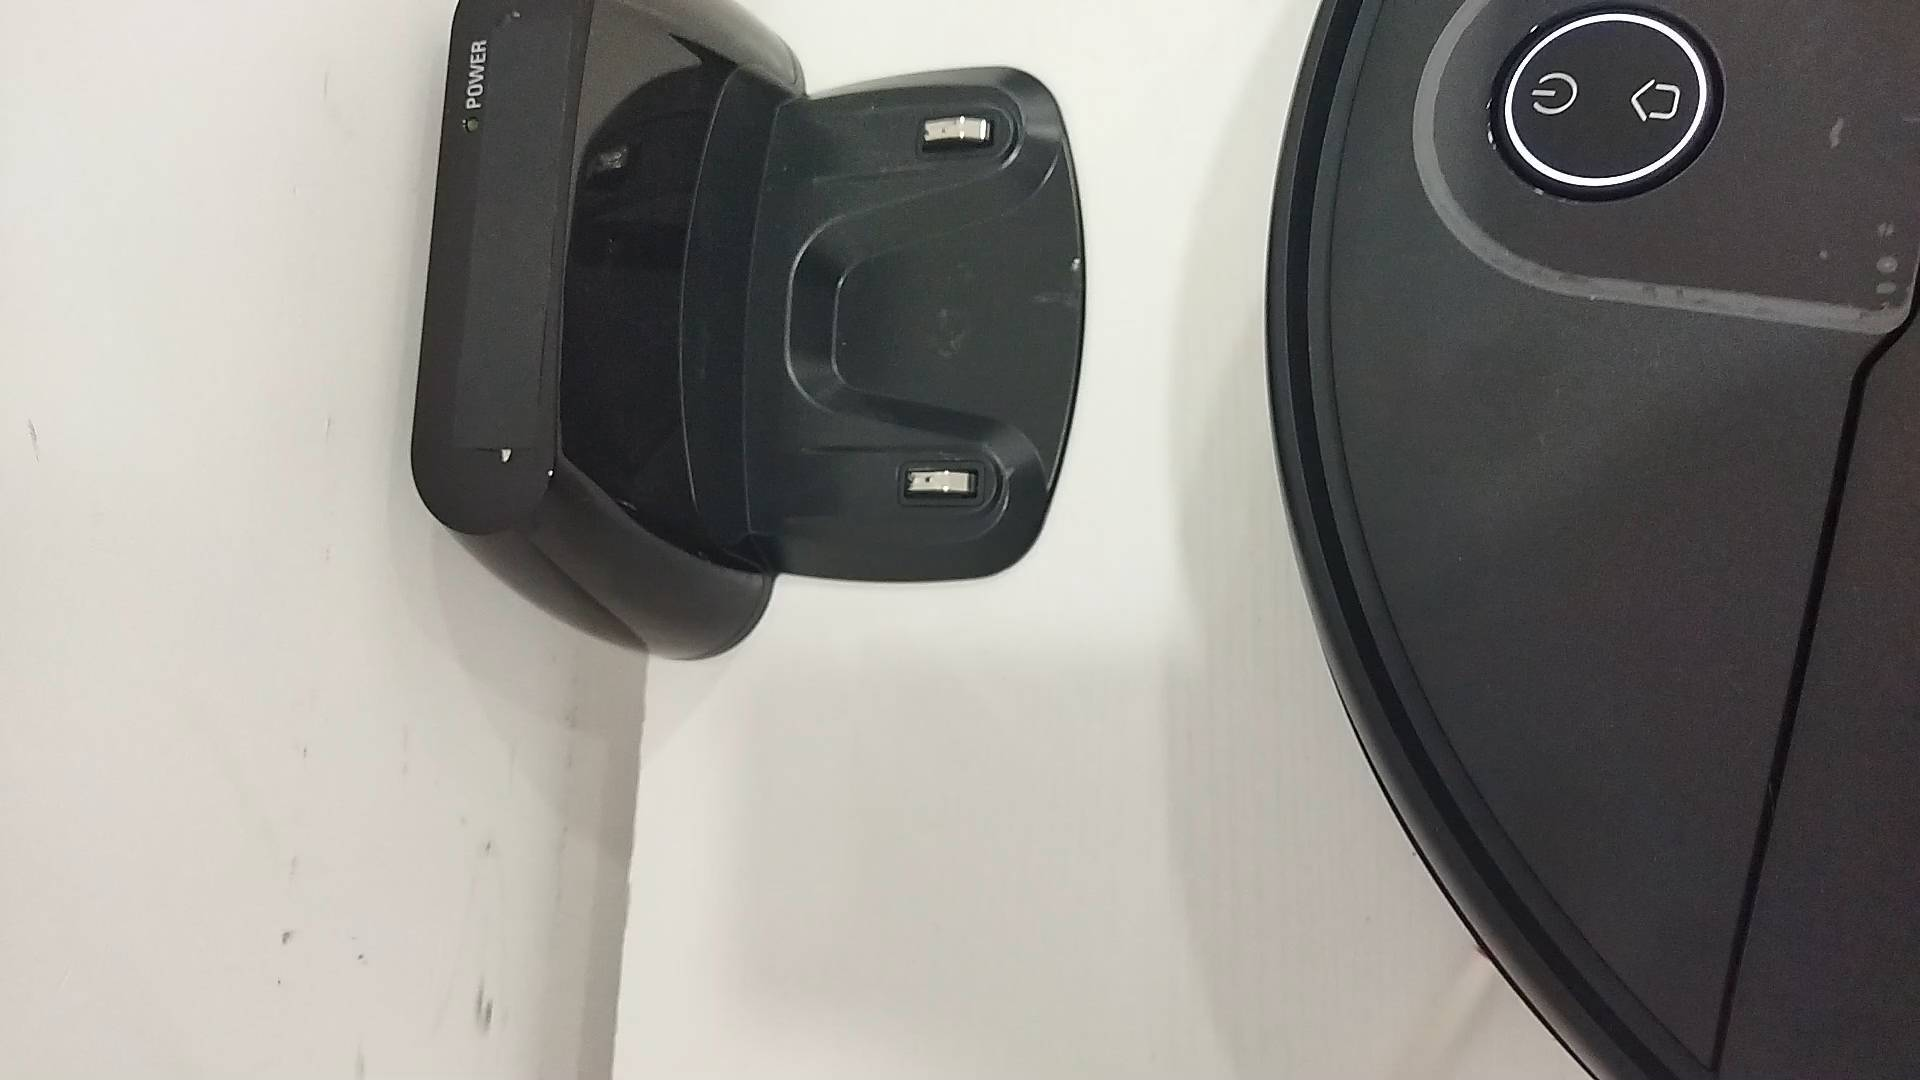recharge seat: (407, 1, 1080, 665)
